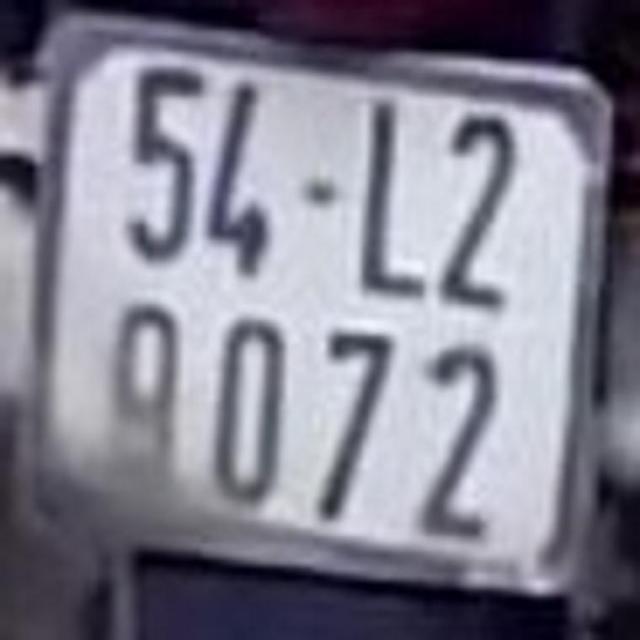0: (215, 299, 289, 512)
2: (419, 318, 496, 542), (444, 87, 517, 320)
4: (213, 62, 282, 284)
5: (124, 56, 202, 267)
7: (318, 307, 394, 528)
9: (98, 281, 186, 481)
L: (350, 81, 430, 305)
